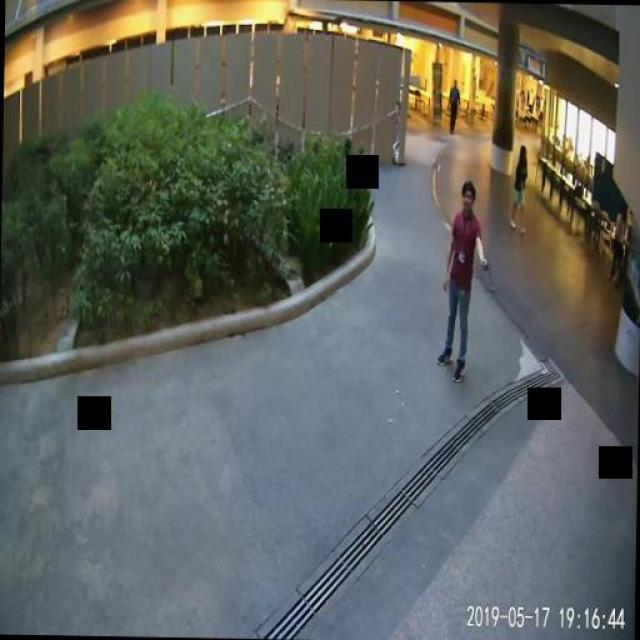gun: (480, 256, 492, 284)
